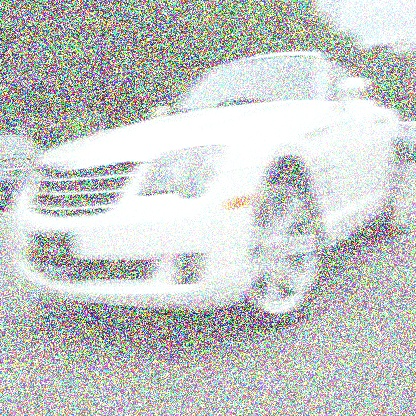Vehicle: (11, 52, 410, 329)
